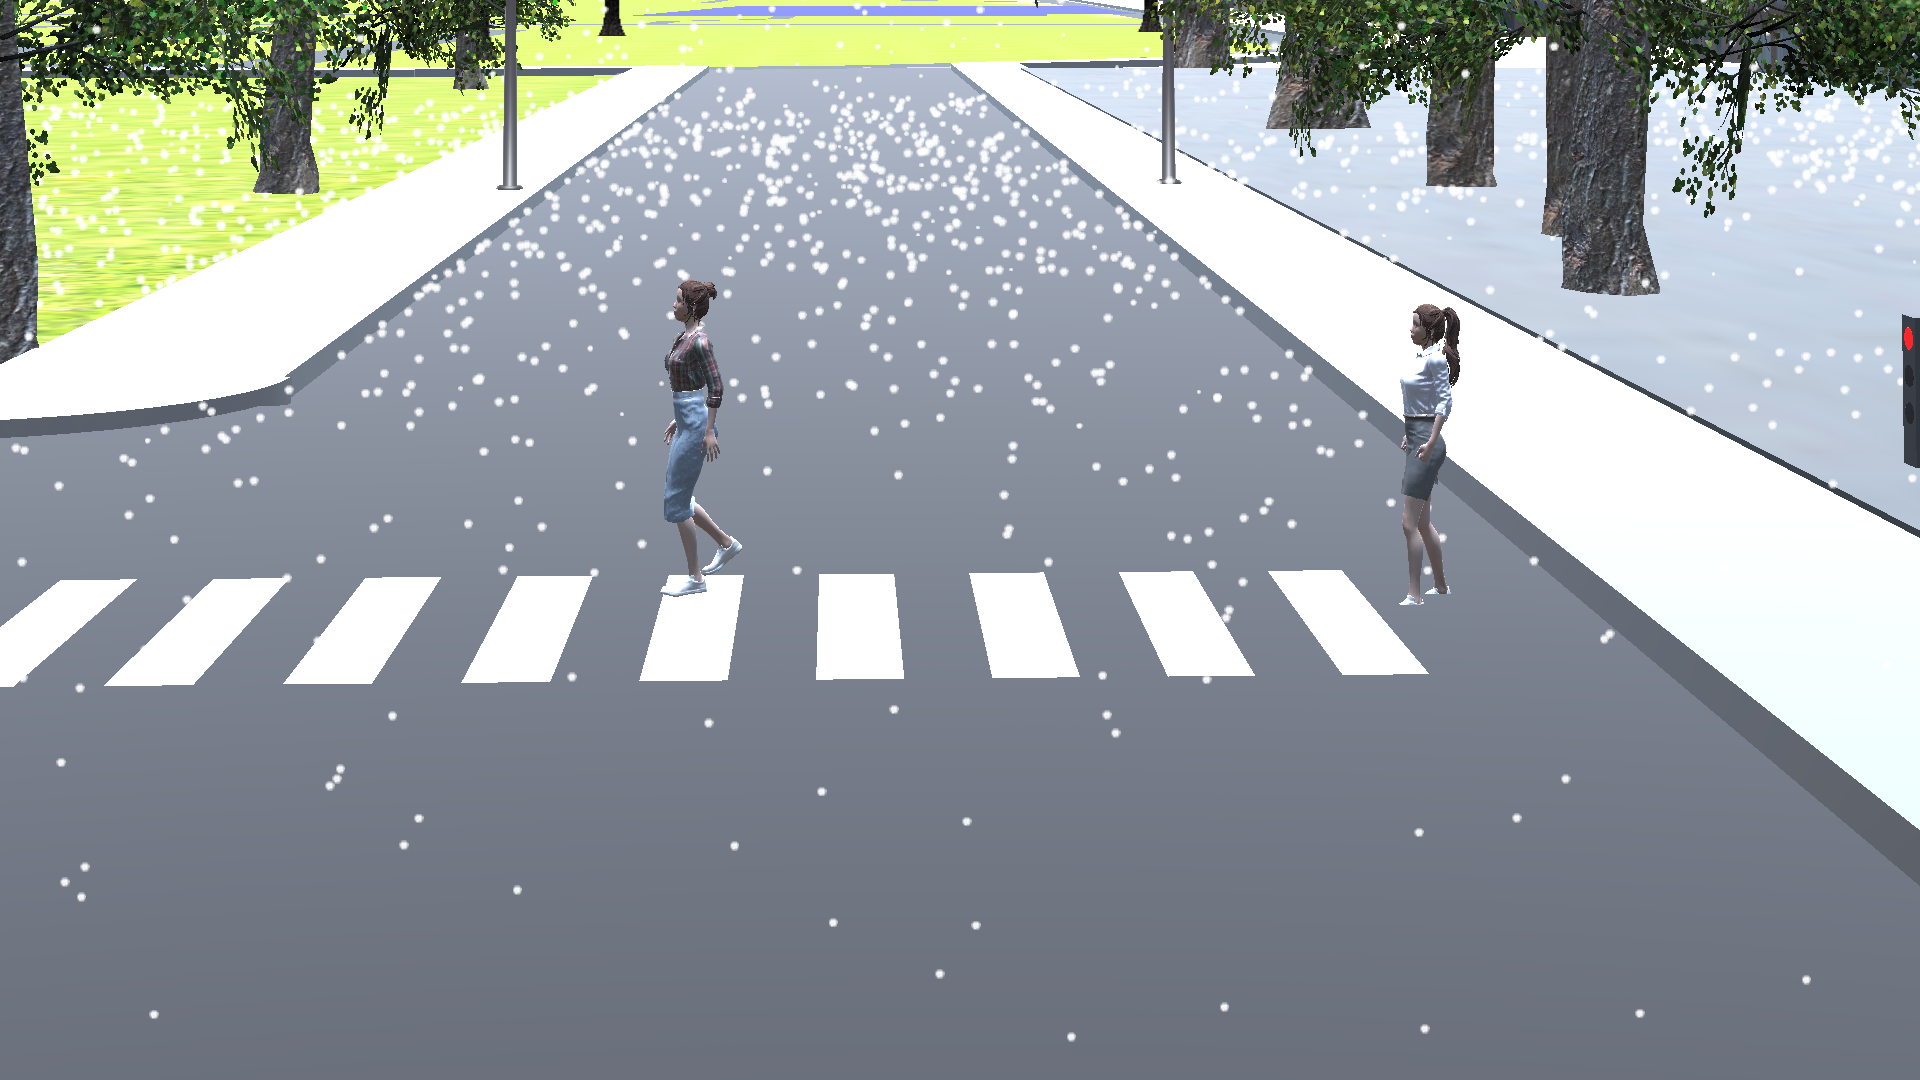pedestrian: (654, 274, 759, 606), (1386, 296, 1473, 625)
